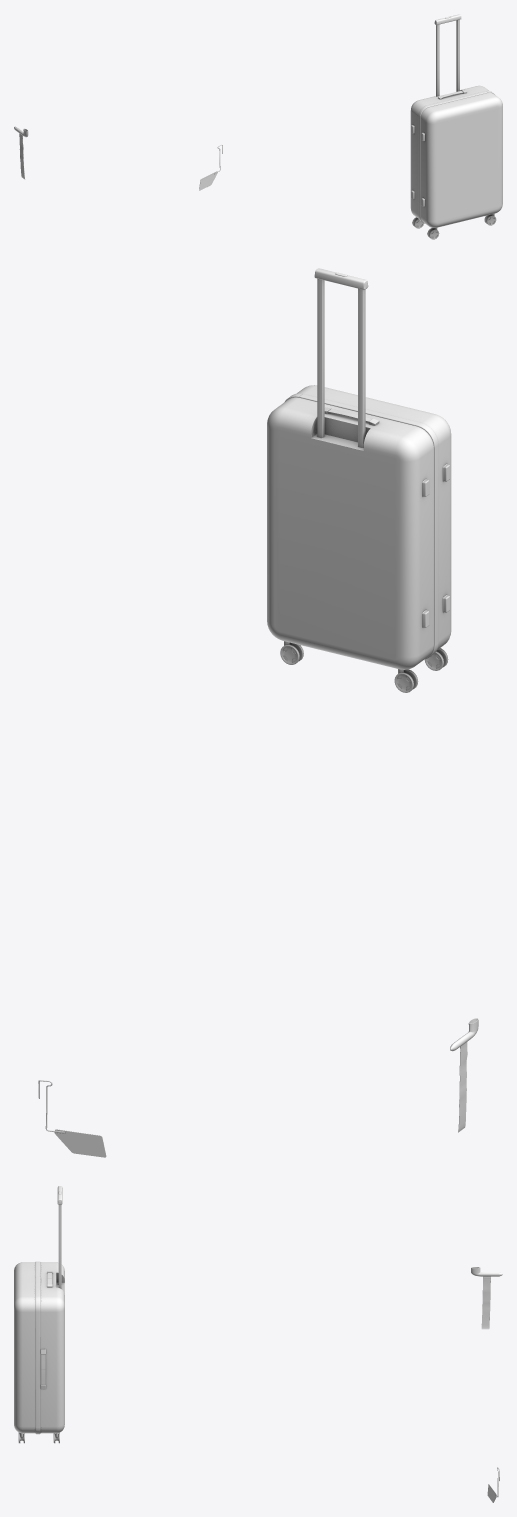
Rendered from misc.fbx.
3 renders of one model, top to bottom at view 1: azimuth 30°, elevation 25°; view 2: azimuth 150°, elevation 25°; view 3: azimuth 270°, elevation 25°, orthographic. The views are drawn at different scales.
Visible parts, largest first — view 1: Cube.047, Cube.050; view 2: Cube.047, Cube.050; view 3: Cube.047, Cube.046.
Part boxes in pixels (x1,y1,x2,y2): Cube.047: (410, 85, 502, 227); Cube.050: (436, 19, 459, 96); Cube.047: (267, 385, 451, 669); Cube.050: (317, 278, 365, 447); Cube.047: (14, 1261, 64, 1434); Cube.046: (481, 1276, 490, 1329).
Bounding box in the file's own units: 203 × 199 × 259.
Materials: 1 (1 with a texture image).
